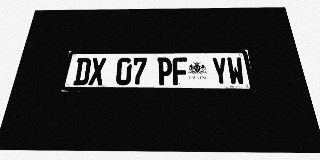0: (115, 58, 132, 85)
7: (131, 58, 147, 85)
D: (73, 58, 92, 85)
F: (172, 57, 188, 85)
P: (157, 57, 172, 85)
W: (226, 57, 246, 85)
X: (88, 58, 106, 85)
Y: (211, 57, 229, 85)
